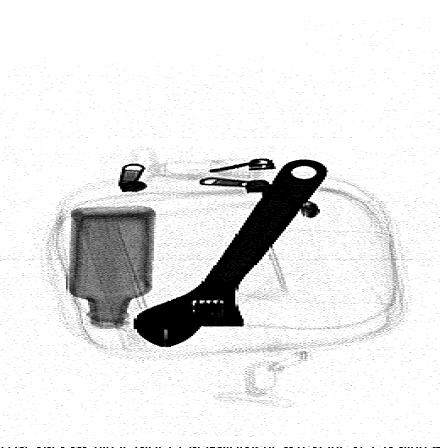Wrench: (127, 157, 331, 351)
